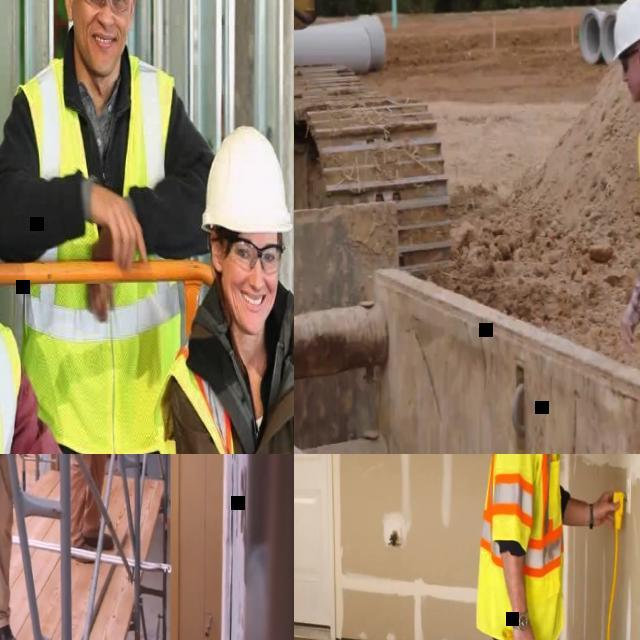Weapon: (6, 0, 340, 464)
objects: (206, 95, 332, 283)
